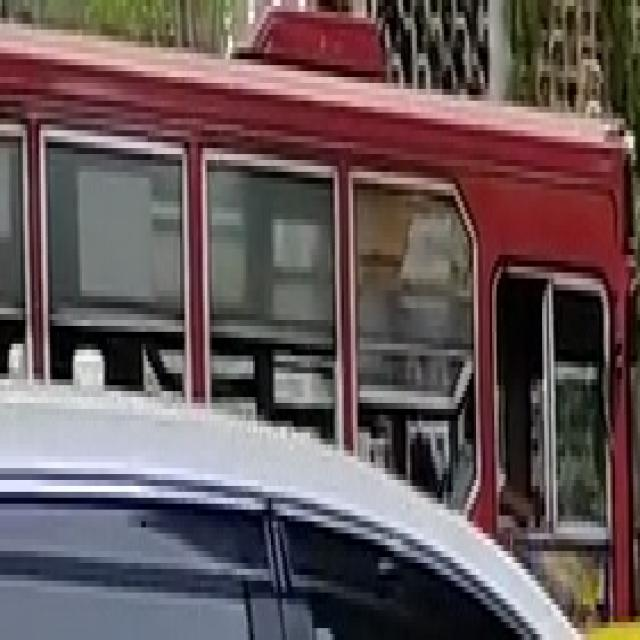door: (492, 255, 613, 622)
